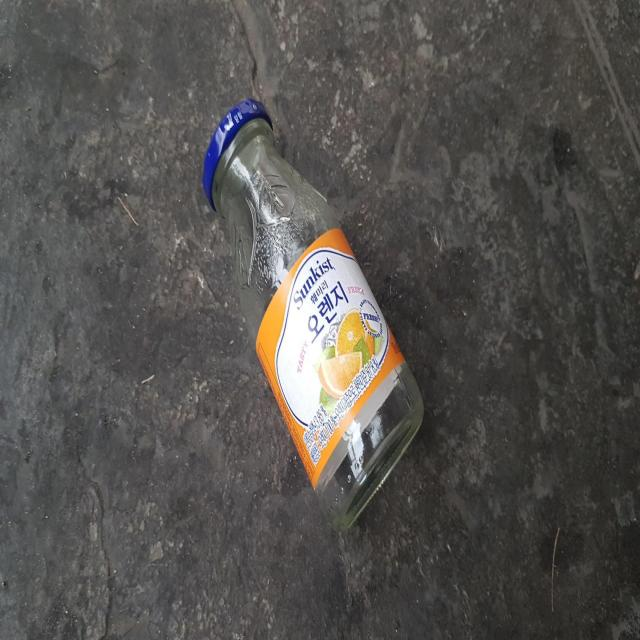glass: (203, 98, 424, 531)
